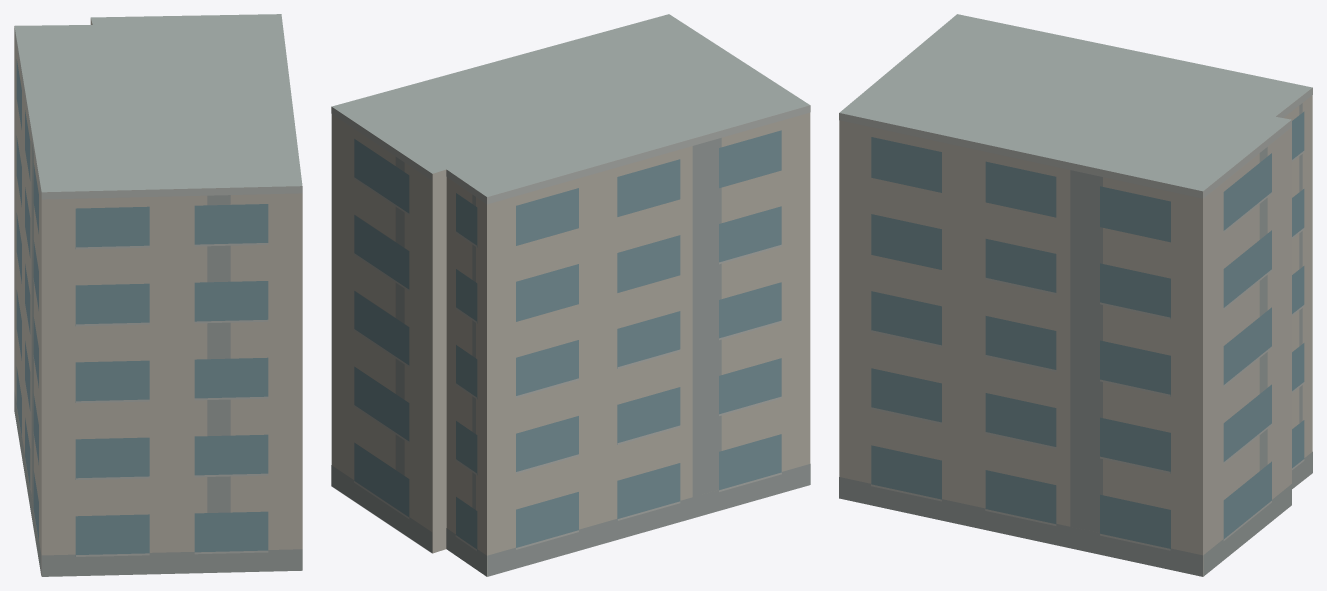
File: survey-upis-32725438.glb
3 renders of one model, left to right at view 1: azimuth 30°, elevation 25°; view 2: azimuth 150°, elevation 25°; view 3: azimuth 270°, elevation 25°, orthographic.
Parts seen in each view (by area): view 1: survey-upis-32725438.tmp; view 2: survey-upis-32725438.tmp; view 3: survey-upis-32725438.tmp.
Boxes of the visible parts, left/top/right/bottom form: survey-upis-32725438.tmp: left=14, top=14, right=302, bottom=576; survey-upis-32725438.tmp: left=331, top=14, right=810, bottom=576; survey-upis-32725438.tmp: left=839, top=14, right=1312, bottom=576.
Size of the model in its own units: 12.64 by 12.8 by 14.26.
